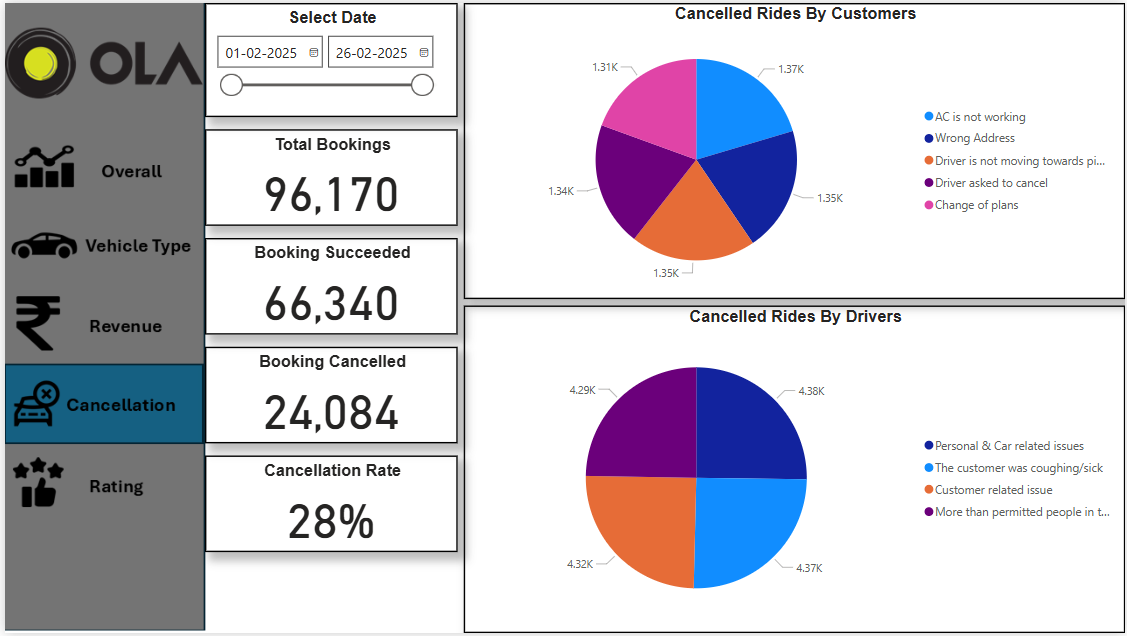

What the dashboard file says about the page in this screenshot:
{"tool":"powerbi","page":{"name":"Cancellation","canvas":[1280,720],"ordinal":3},"visuals":[{"type":"actionButton","box":[0,231.9,229.2,86.4],"z":0},{"type":"actionButton","box":[0,146.8,229.2,86.4],"z":1000},{"type":"actionButton","box":[0,328,229.2,86.4],"z":2000},{"type":"actionButton","box":[0,500.9,229.2,86.4],"z":3000},{"type":"pieChart","title":"Cancelled Rides By Customers","fields":{"Category":["Cleaned_ola_booking_data (2).Reason_for_cancelling_by_Customer"],"Y":["CountNonNull(Cleaned_ola_booking_data (2).Reason_for_cancelling_by_Customer)"]},"box":[524.3,0,755.7,338.6],"z":4000},{"type":"pieChart","title":"Cancelled Rides By Drivers","fields":{"Category":["Cleaned_ola_booking_data (2).Reason_for_cancelling_by_Driver"],"Y":["CountNonNull(Cleaned_ola_booking_data (2).Reason_for_cancelling_by_Driver)"]},"box":[524.3,345.7,755.7,374.3],"z":5000},{"type":"slicer","title":"Select Date","fields":{"Values":["Cleaned_ola_booking_data (2).Date"]},"box":[228.6,0,288.6,130],"z":6000},{"type":"card","title":"Total Bookings","fields":{"Values":["CountNonNull(Cleaned_ola_booking_data (2).Booking_ID)"]},"box":[228.6,144.3,288.6,110],"z":7000},{"type":"card","title":"Booking Succeeded","fields":{"Values":["CountNonNull(Cleaned_ola_booking_data (2).Booking_ID)"]},"box":[228.6,268.6,288.6,110],"z":8000},{"type":"card","title":"Booking Cancelled","fields":{"Values":["CountNonNull(Cleaned_ola_booking_data (2).Booking_ID)"]},"box":[228.6,392.9,288.6,110],"z":9000},{"type":"card","title":"Cancellation Rate","fields":{"Values":["Cleaned_ola_booking_data.cancelled_booking"]},"box":[228.6,517.1,288.6,110],"z":10000}]}

Visuals, with their boxes in screenshot pixels (x1, y1, x2, y2), scaled from the page's 1280x720 canvas onto the 1127x636 screenshot:
actionButton: [x1=0, y1=205, x2=202, y2=281]
actionButton: [x1=0, y1=130, x2=202, y2=206]
actionButton: [x1=0, y1=290, x2=202, y2=366]
actionButton: [x1=0, y1=442, x2=202, y2=519]
"Cancelled Rides By Customers" pieChart: [x1=462, y1=0, x2=1126, y2=299]
"Cancelled Rides By Drivers" pieChart: [x1=462, y1=305, x2=1126, y2=635]
"Select Date" slicer: [x1=201, y1=0, x2=455, y2=115]
"Total Bookings" card: [x1=201, y1=127, x2=455, y2=225]
"Booking Succeeded" card: [x1=201, y1=237, x2=455, y2=334]
"Booking Cancelled" card: [x1=201, y1=347, x2=455, y2=444]
"Cancellation Rate" card: [x1=201, y1=457, x2=455, y2=554]
